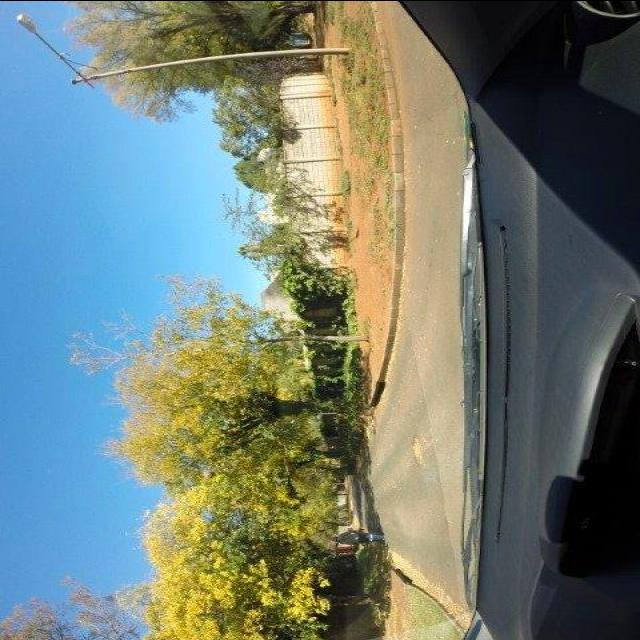lubang: (406, 434, 428, 471)
